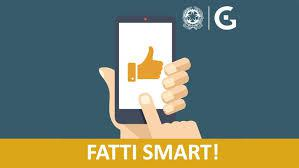Hand: (100, 58, 201, 132), (139, 96, 200, 142)
Smartphone: (116, 14, 176, 120)
